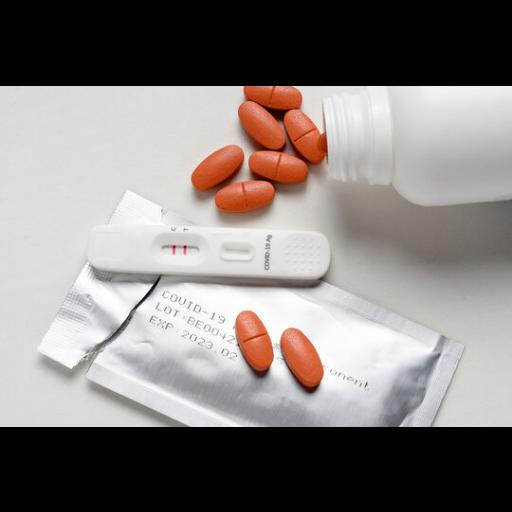Pos: (87, 224, 331, 279)
